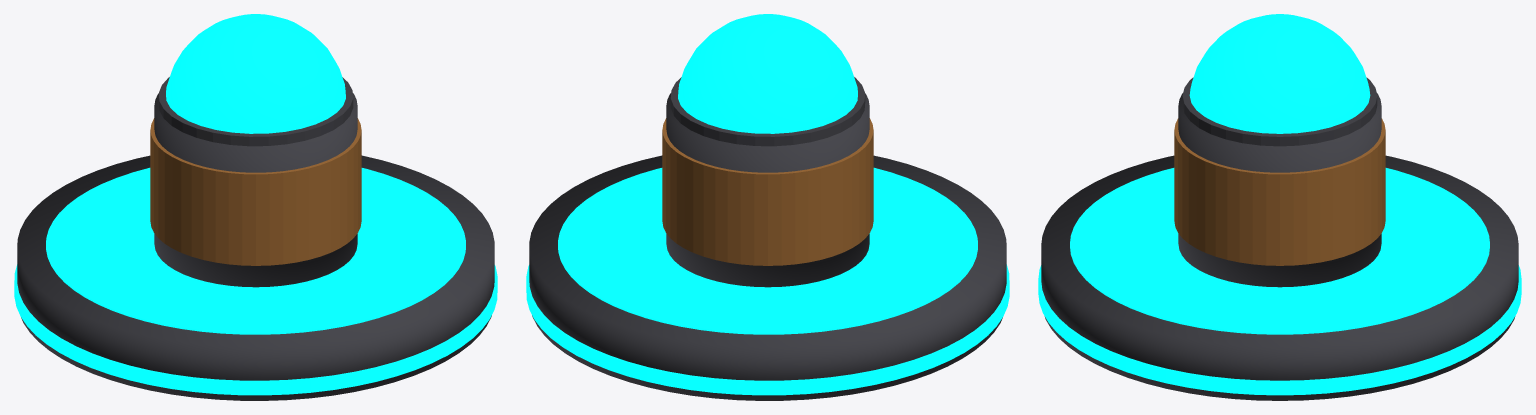
The model's file is rebatedor_neo_basketball_p2.glb.
3 renders of one model, left to right at view 1: azimuth 30°, elevation 25°; view 2: azimuth 150°, elevation 25°; view 3: azimuth 270°, elevation 25°, orthographic.
Parts seen in each view (by area): view 1: Cylinder.002, Cylinder, Cylinder.004, Sphere, Cylinder.003, Cylinder.001, Cylinder.005; view 2: Cylinder.002, Cylinder, Cylinder.004, Sphere, Cylinder.003, Cylinder.001, Cylinder.005; view 3: Cylinder.002, Cylinder, Cylinder.004, Sphere, Cylinder.003, Cylinder.001, Cylinder.005.
Boxes of the visible parts, <box> form: Cylinder.002: <box>46,167,465,334</box>; Cylinder: <box>17,155,494,400</box>; Cylinder.004: <box>150,118,361,265</box>; Sphere: <box>166,14,345,133</box>; Cylinder.003: <box>154,93,357,287</box>; Cylinder.001: <box>14,264,497,395</box>; Cylinder.005: <box>158,77,353,146</box>; Cylinder.002: <box>558,167,977,334</box>; Cylinder: <box>529,155,1006,400</box>; Cylinder.004: <box>662,118,873,265</box>; Sphere: <box>678,14,857,133</box>; Cylinder.003: <box>666,93,869,287</box>; Cylinder.001: <box>526,264,1009,395</box>; Cylinder.005: <box>670,77,865,146</box>; Cylinder.002: <box>1070,168,1489,334</box>; Cylinder: <box>1041,155,1518,400</box>; Cylinder.004: <box>1174,118,1385,265</box>; Sphere: <box>1189,14,1370,133</box>; Cylinder.003: <box>1178,93,1381,287</box>; Cylinder.001: <box>1038,265,1521,395</box>; Cylinder.005: <box>1182,77,1377,146</box>.
Bounding box in the file's own units: 0.1619 × 0.1032 × 0.1619.
